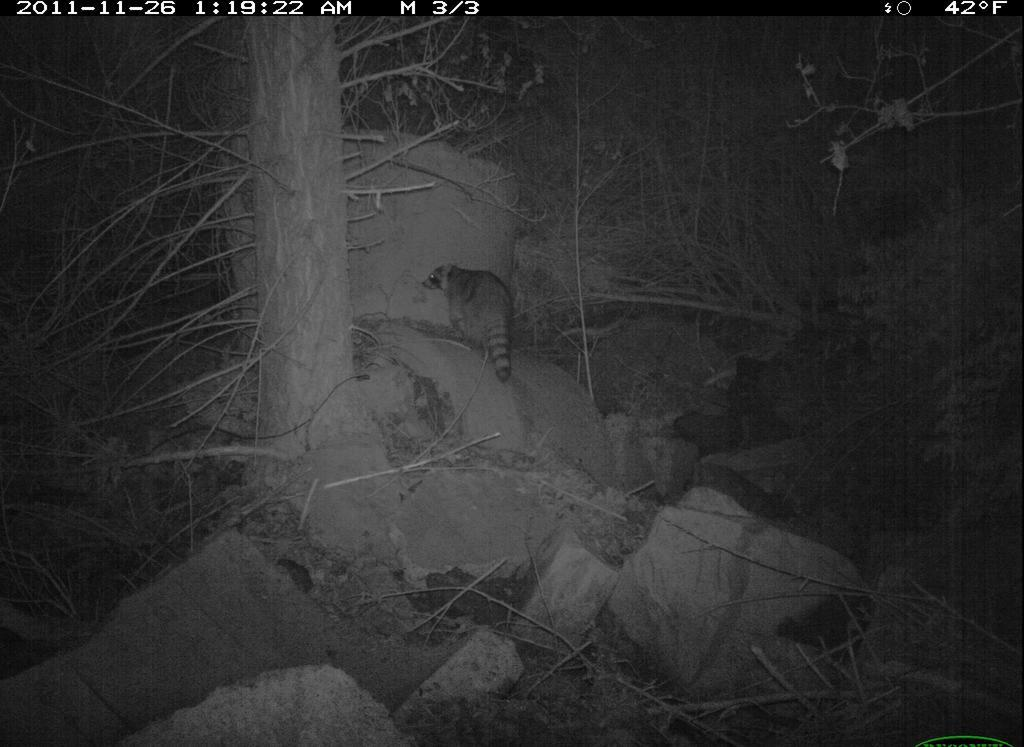raccoon: (415, 245, 532, 395)
